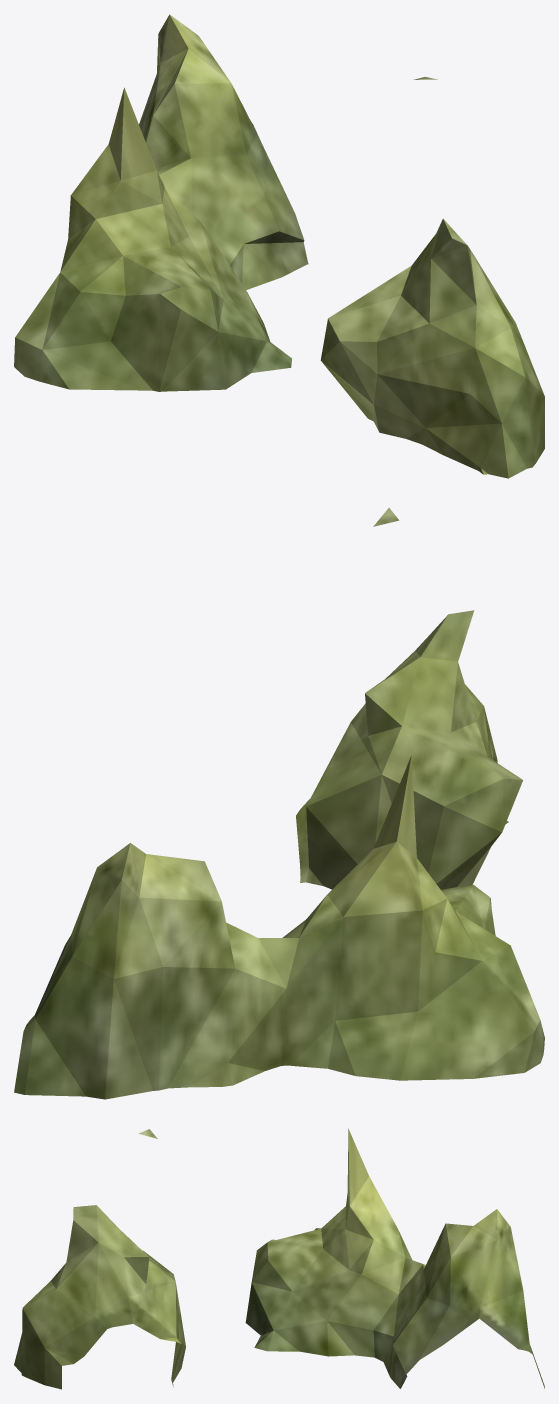
3 views of the same model, one above another, from view 1: azimuth 30°, elevation 25°; view 2: azimuth 150°, elevation 25°; view 3: azimuth 270°, elevation 25° (orthographic). The views are drawn at different scales.
Size of the model in its own units: 1.69 by 1.62 by 3.29.
Materials: 1 (1 with a texture image).
